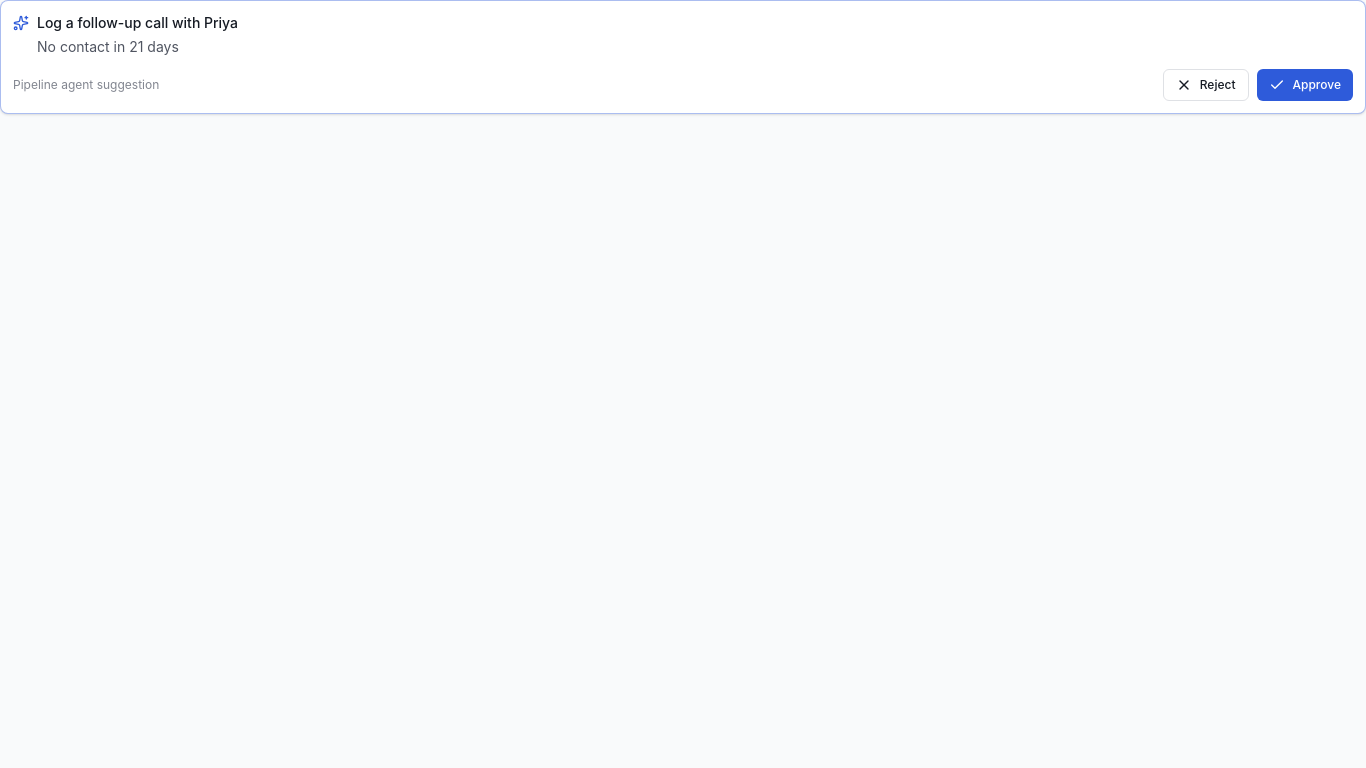
Test: ProposalCard › shows the API's answer when approving is refused
This screenshot has width=1366, height=768.
Click the button "Reject": (1206, 85) [1163,69,1249,101]
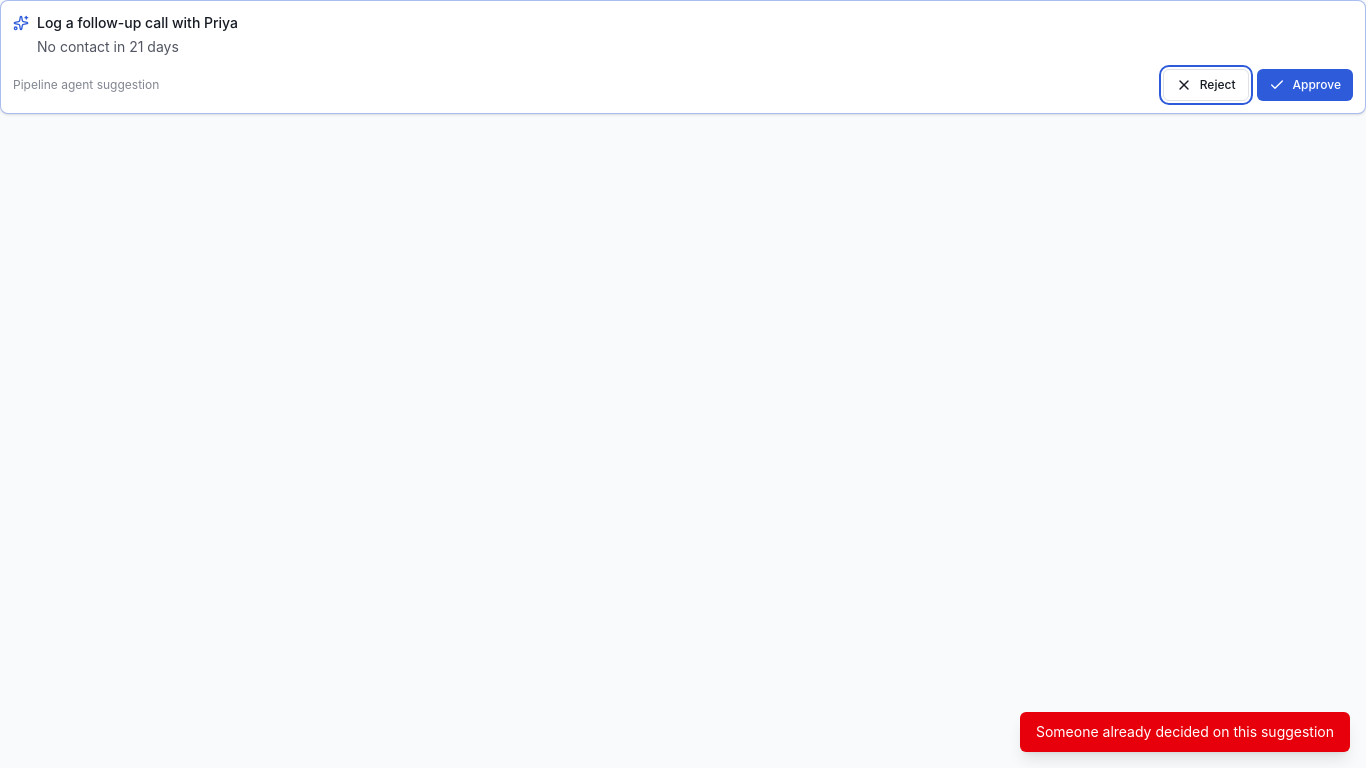
Now the message reads "Someone already decided on this suggestion", box [1036,723,1334,740]
